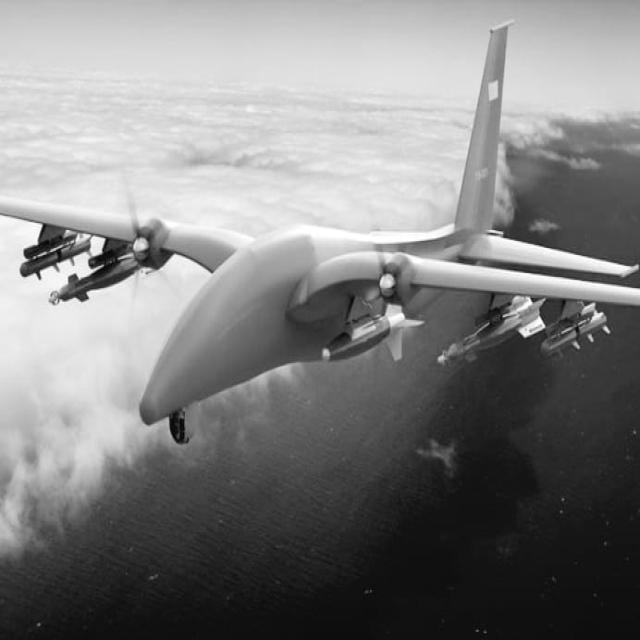iha: (0, 22, 639, 443)
